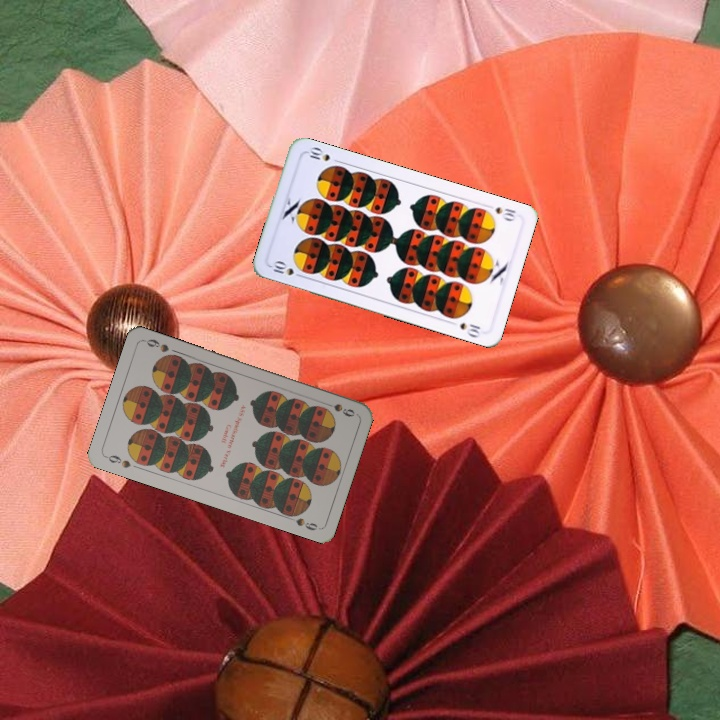S10: (269, 257, 306, 280), (492, 203, 519, 224)
S9: (319, 398, 357, 419), (102, 451, 133, 471)
